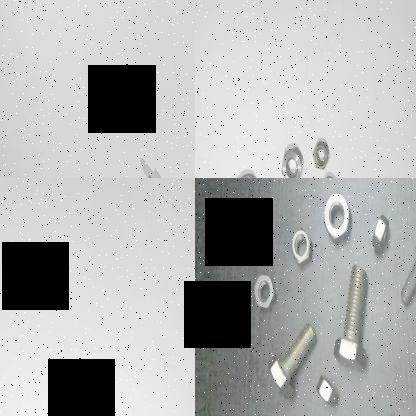Bolts: (266, 315, 320, 398), (330, 262, 370, 368), (391, 235, 416, 305)
NUTS: (248, 267, 280, 315), (319, 191, 349, 241), (316, 366, 338, 416), (288, 222, 314, 264), (277, 141, 305, 178), (366, 210, 389, 254), (307, 138, 332, 172), (233, 167, 255, 178)
